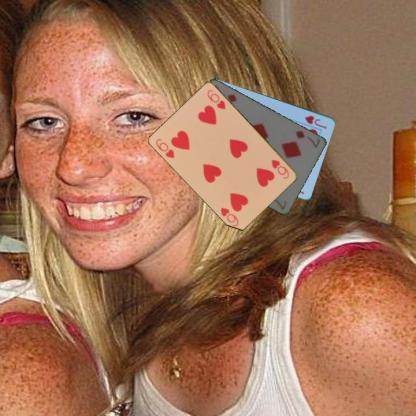6h: (153, 136, 176, 159), (268, 157, 290, 180)
7d: (293, 127, 321, 148)
Jh: (303, 113, 328, 130)
